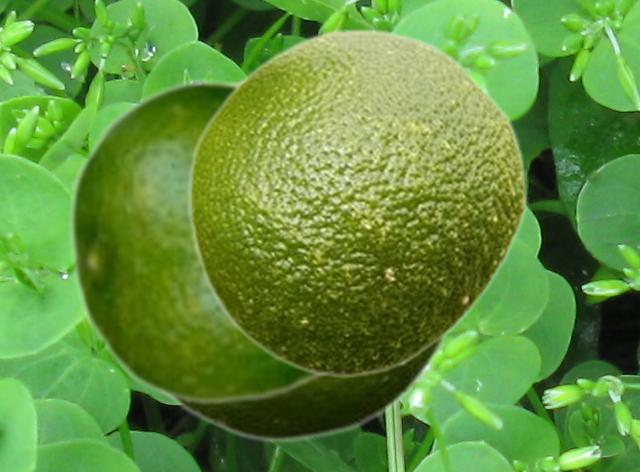calamansi: (186, 27, 527, 379), (159, 75, 452, 443), (66, 77, 325, 405)
